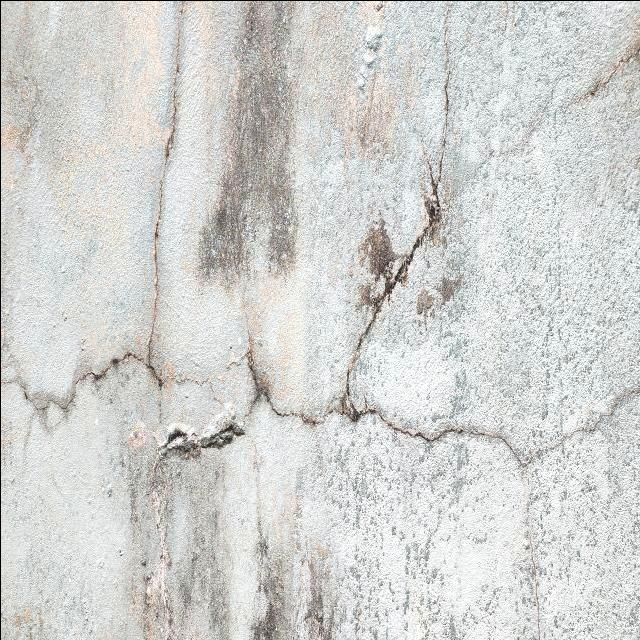SurfaceCrack: (294, 0, 591, 606), (93, 0, 279, 607)
